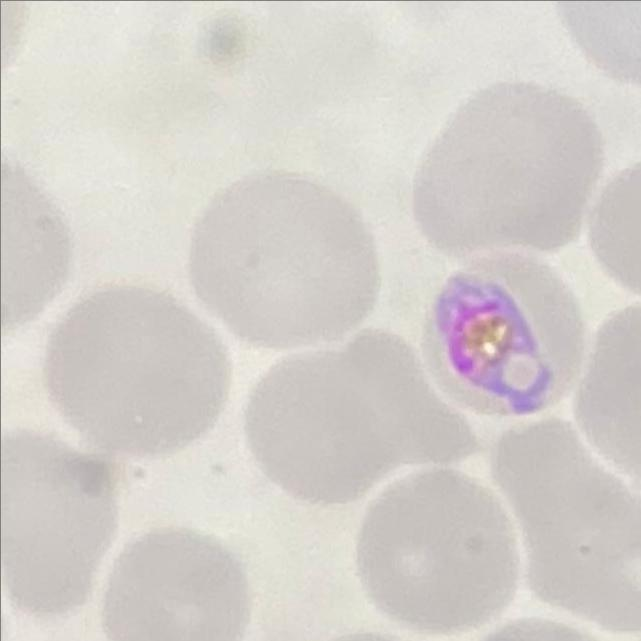Infected: (425, 249, 589, 413)
Uninfected: (250, 329, 475, 508), (414, 82, 602, 260), (194, 171, 381, 349), (492, 421, 641, 635), (49, 280, 228, 452), (359, 467, 514, 631), (0, 426, 124, 616), (112, 525, 251, 641)
